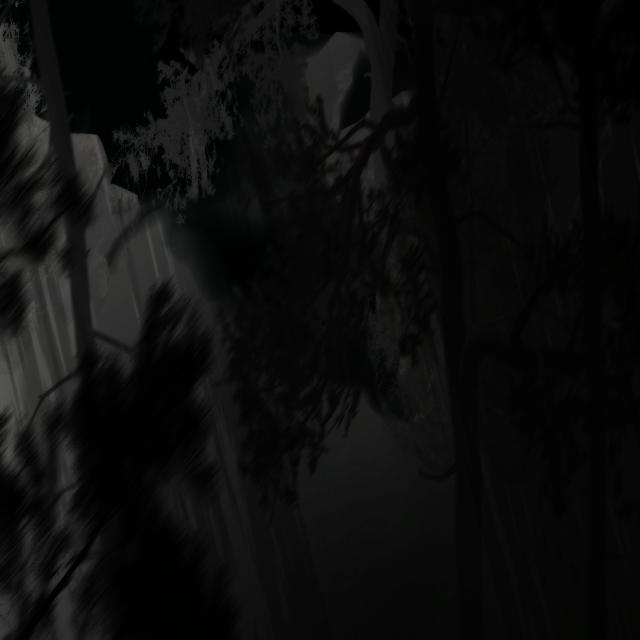Human: (178, 61, 210, 207)
